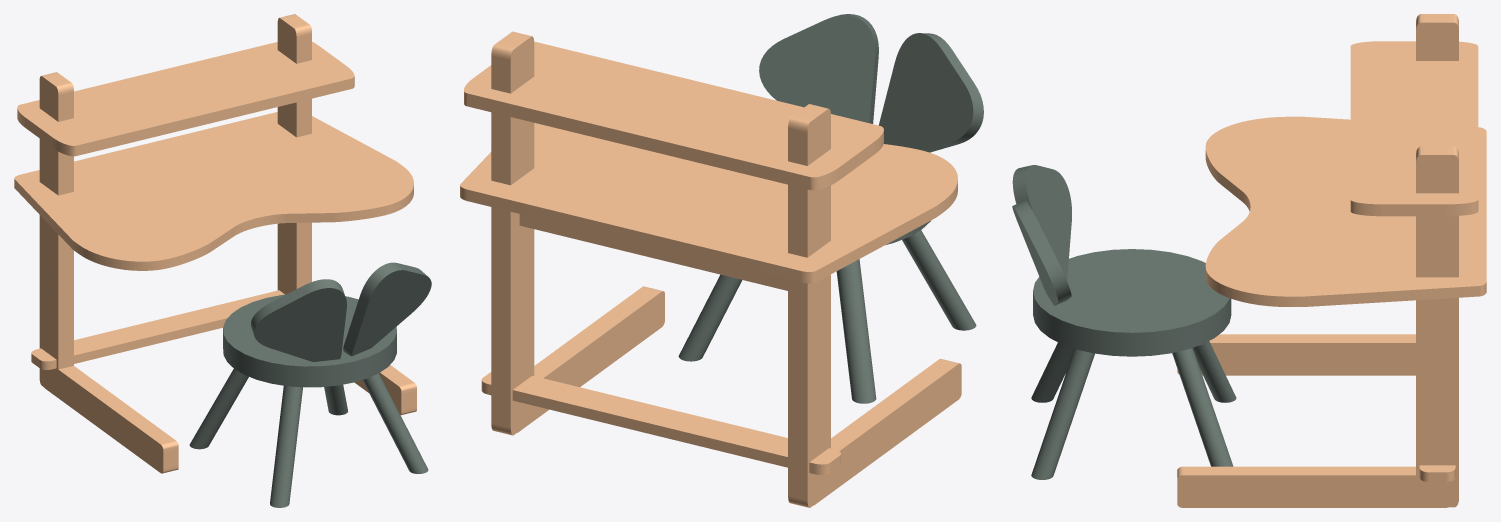
Rendered from Furn3_worktable_color2_joined.fbx.
3 renders of one model, left to right at view 1: azimuth 30°, elevation 25°; view 2: azimuth 150°, elevation 25°; view 3: azimuth 270°, elevation 25°, orthographic. The views are drawn at different scales.
Visible parts, largest first — view 1: Цилиндр.038; view 2: Цилиндр.038; view 3: Цилиндр.038.
Part boxes in pixels (x1,y1,x2,y2): Цилиндр.038: [14, 14, 431, 507]; Цилиндр.038: [460, 14, 983, 507]; Цилиндр.038: [1012, 14, 1486, 507].
Bounding box in the file's own units: 213 × 195 × 238.
